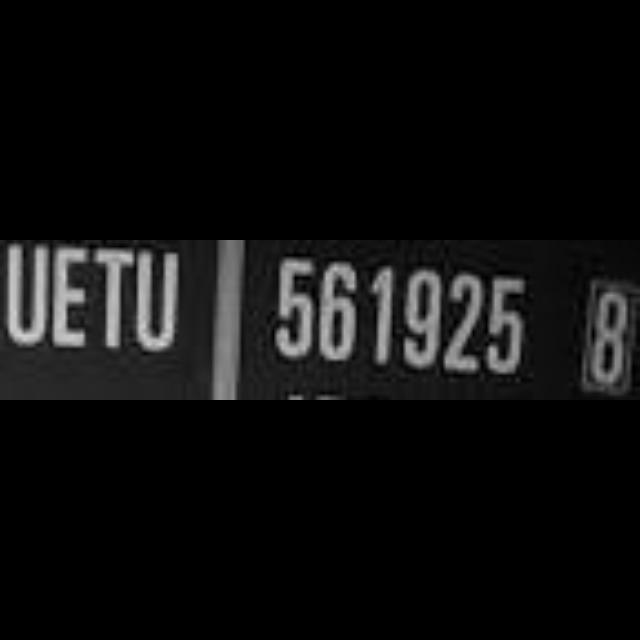1: (365, 258, 397, 370)
2: (442, 263, 488, 379)
5: (270, 250, 316, 364), (486, 269, 524, 379)
6: (318, 248, 360, 364)
8: (584, 291, 640, 394)
9: (400, 264, 442, 374)
e: (51, 240, 95, 354)
t: (92, 240, 136, 352)
u: (0, 240, 48, 352), (136, 242, 182, 358)
